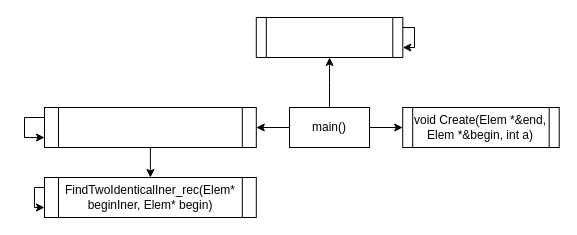
Some shapes in this 577 by 235 pixel diagram are drawn without their labels. Each missing label, with the centre of its shape:
bool FindTwoIdentical_rec(Elem* begin): pixel 150 127
void Print_rec(Elem* begin): pixel 329 37
